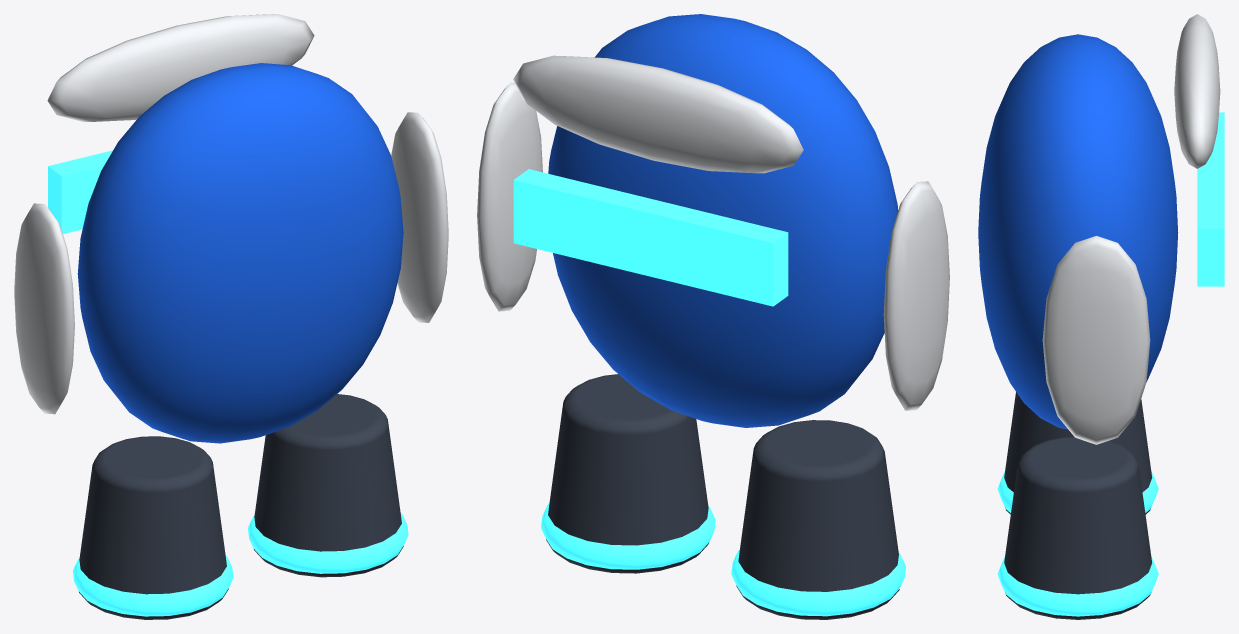
The model's file is jetpack.glb.
3 views of the same model, side by side, from view 1: azimuth 30°, elevation 25°; view 2: azimuth 150°, elevation 25°; view 3: azimuth 270°, elevation 25° (orthographic). The views are drawn at different scales.
Parts seen in each view (by area): view 1: Jetpack; view 2: Jetpack; view 3: Jetpack.
Part boxes in pixels (x1,y1,x2,y2): Jetpack: [14, 14, 448, 619]; Jetpack: [477, 14, 949, 619]; Jetpack: [978, 14, 1224, 619].
Size of the model in its own units: 0.5036 by 0.6004 by 0.2691.
